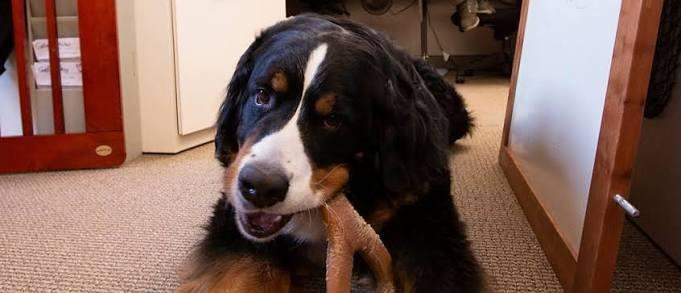adult_dog: (175, 9, 482, 293)
